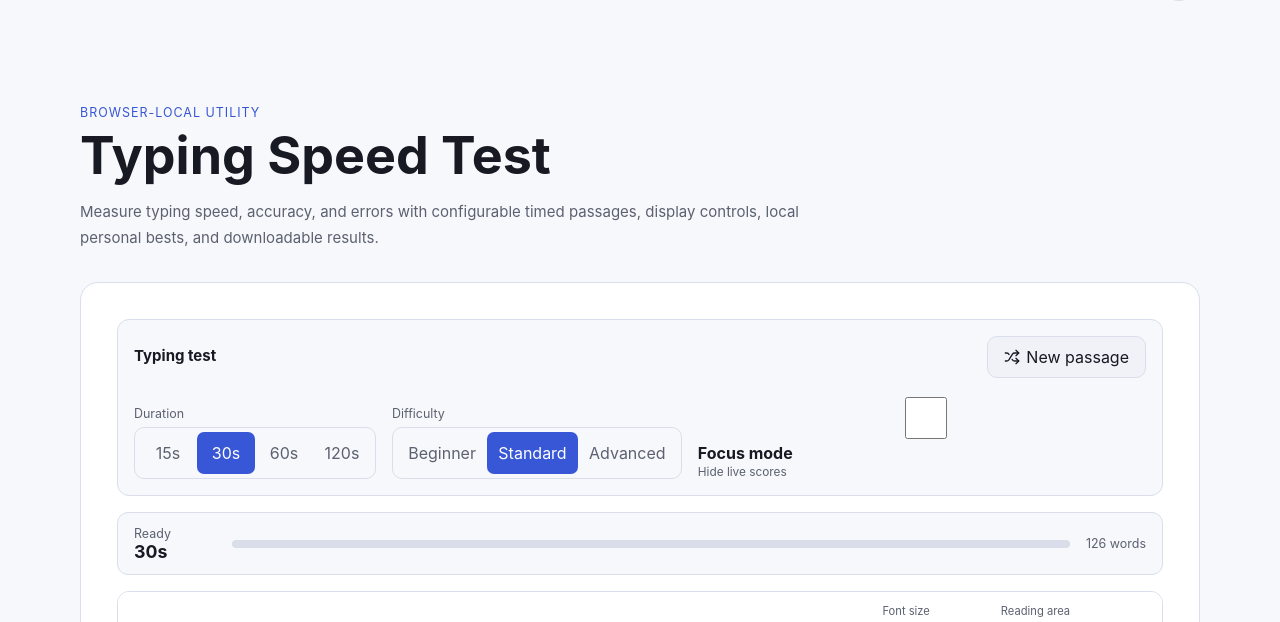
Test: Typing Speed Test › finishes at the selected deadline and records the attempt
Click the button "15s" at point(168, 453), box [139,432,197,474]
(page scrolled)
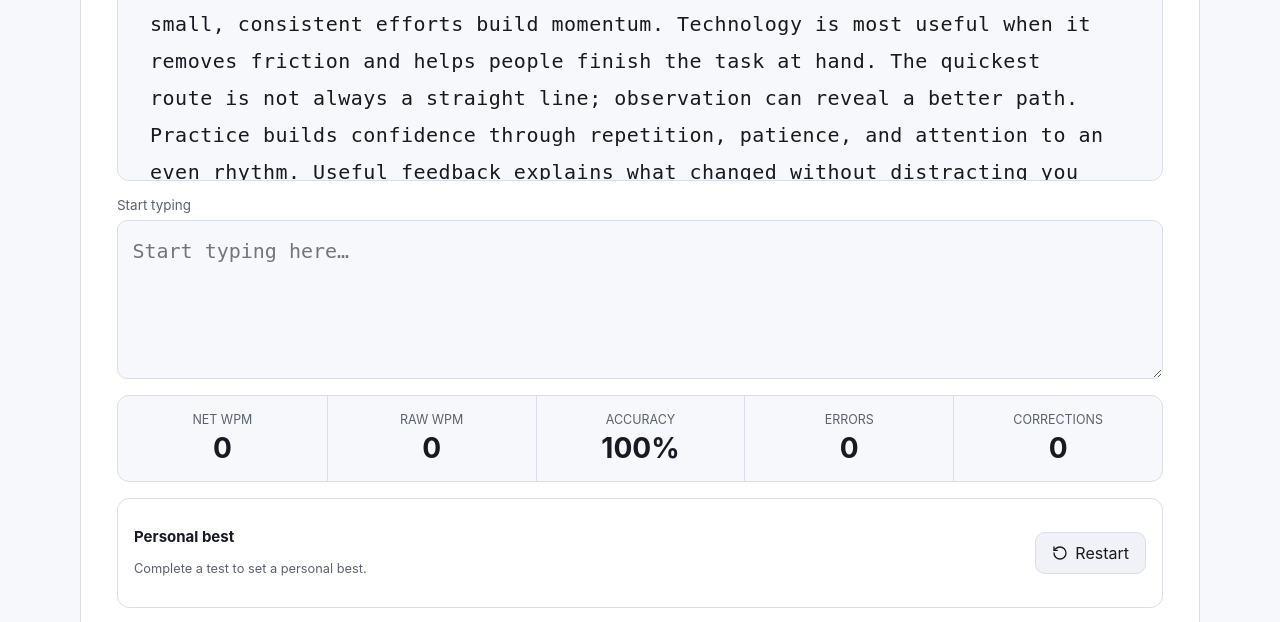
Type "The quick" into the text box labelled "Start typing" at point(640, 299), box [117,220,1163,379]
Wait 15100 ms
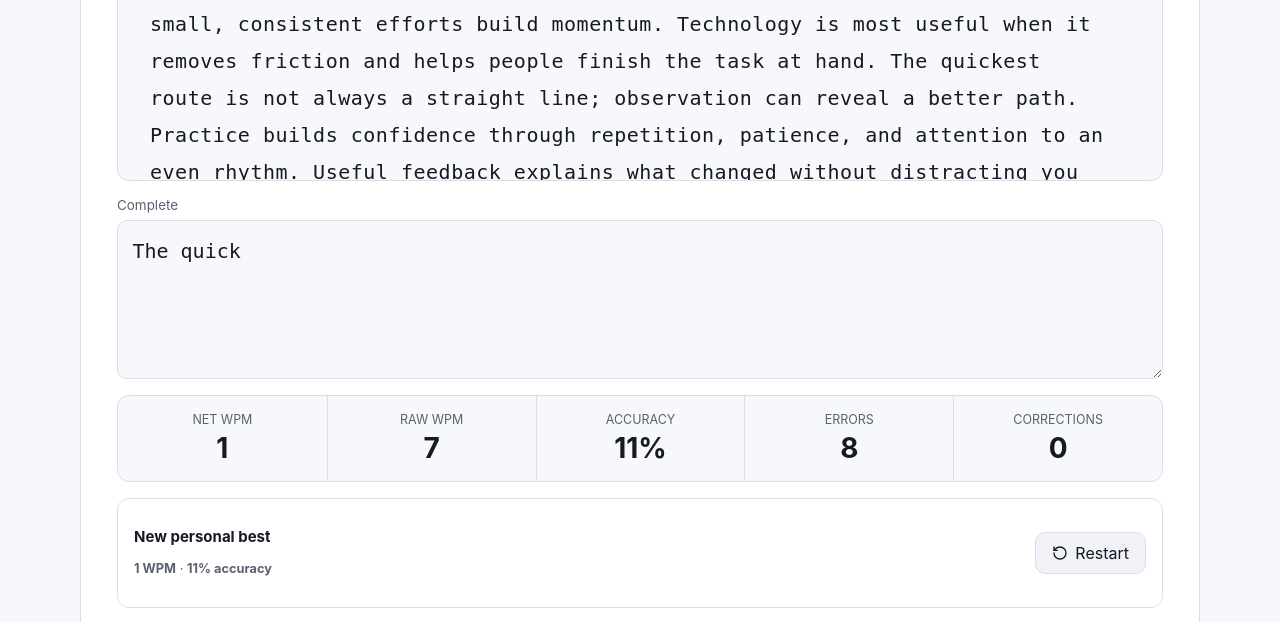
Expected: the heading "New personal best" is shown, [134,527,272,546]
